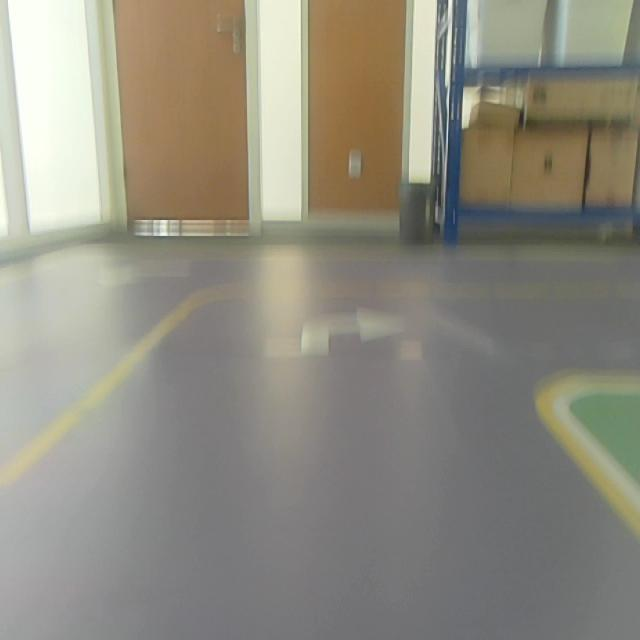left_lane: (1, 291, 201, 496)
right_lane: (536, 394, 640, 540)
